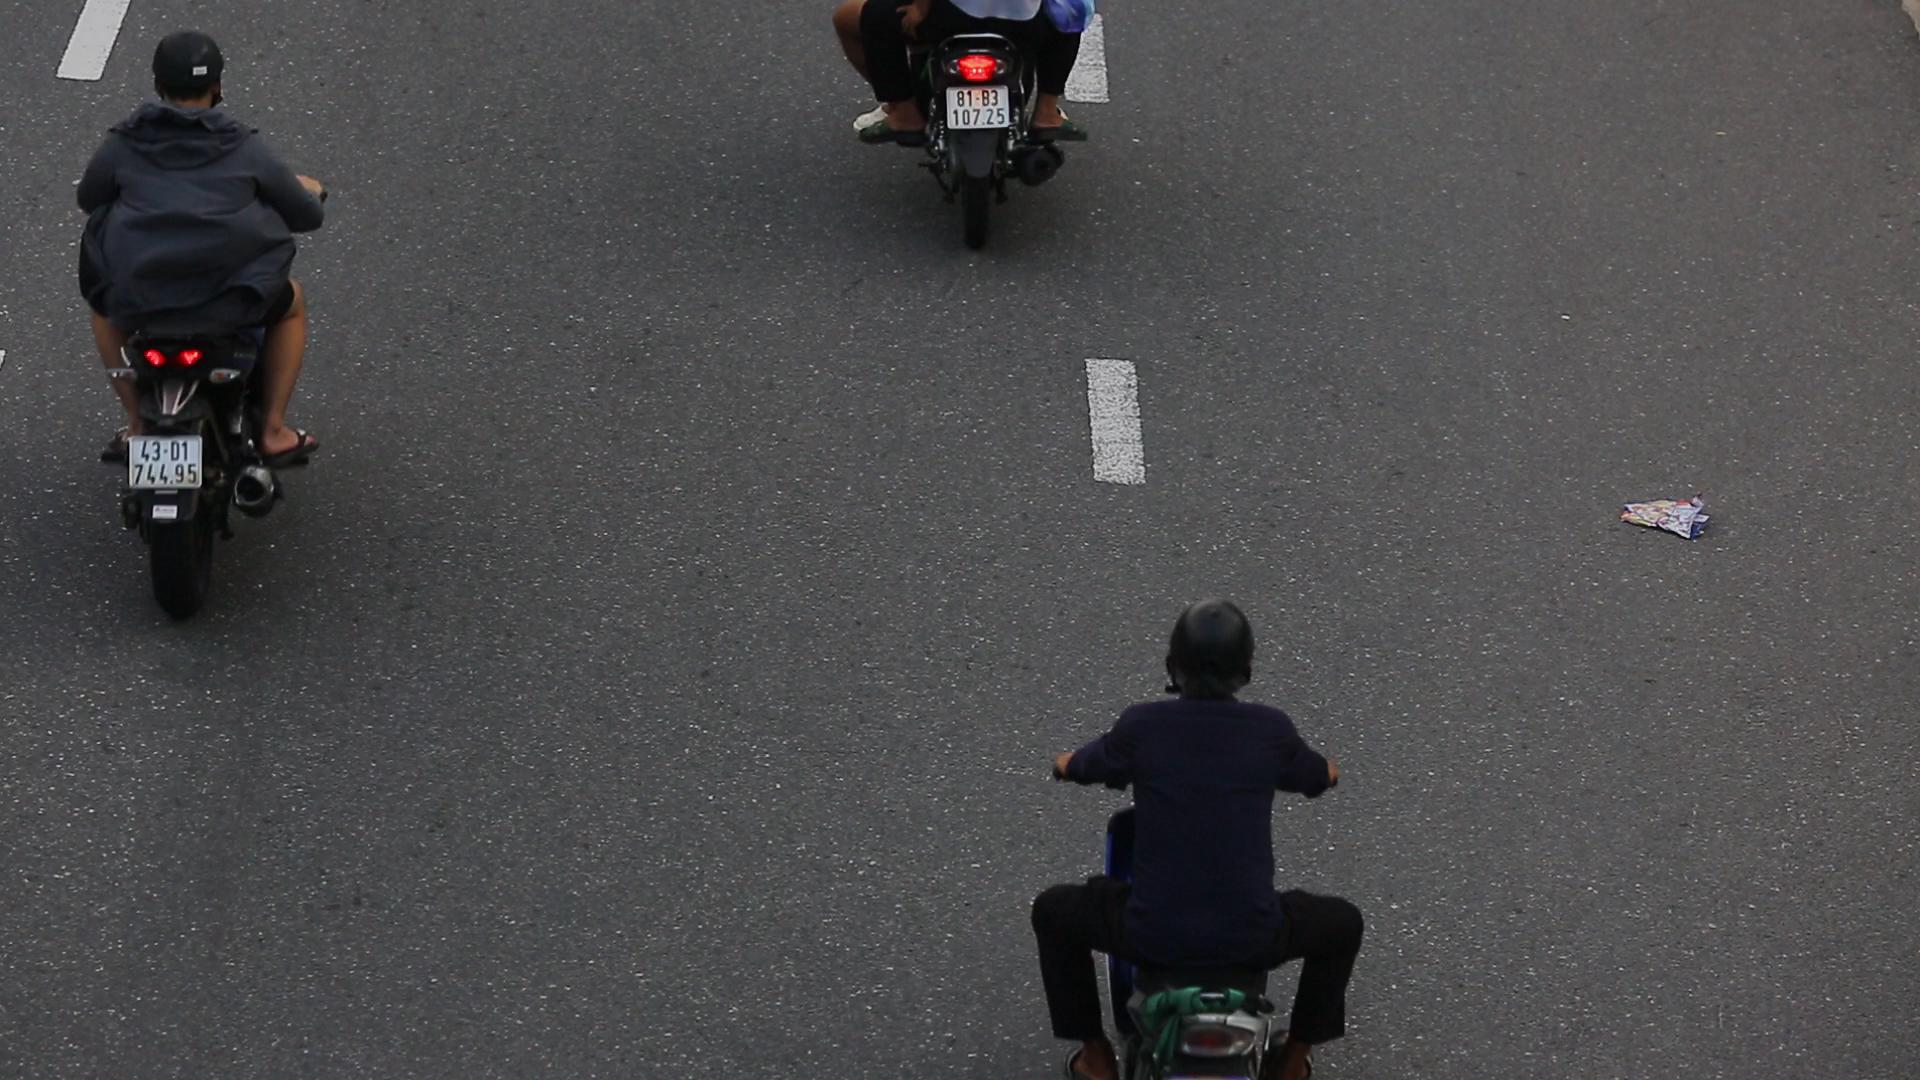motobike: (44, 13, 371, 659)
